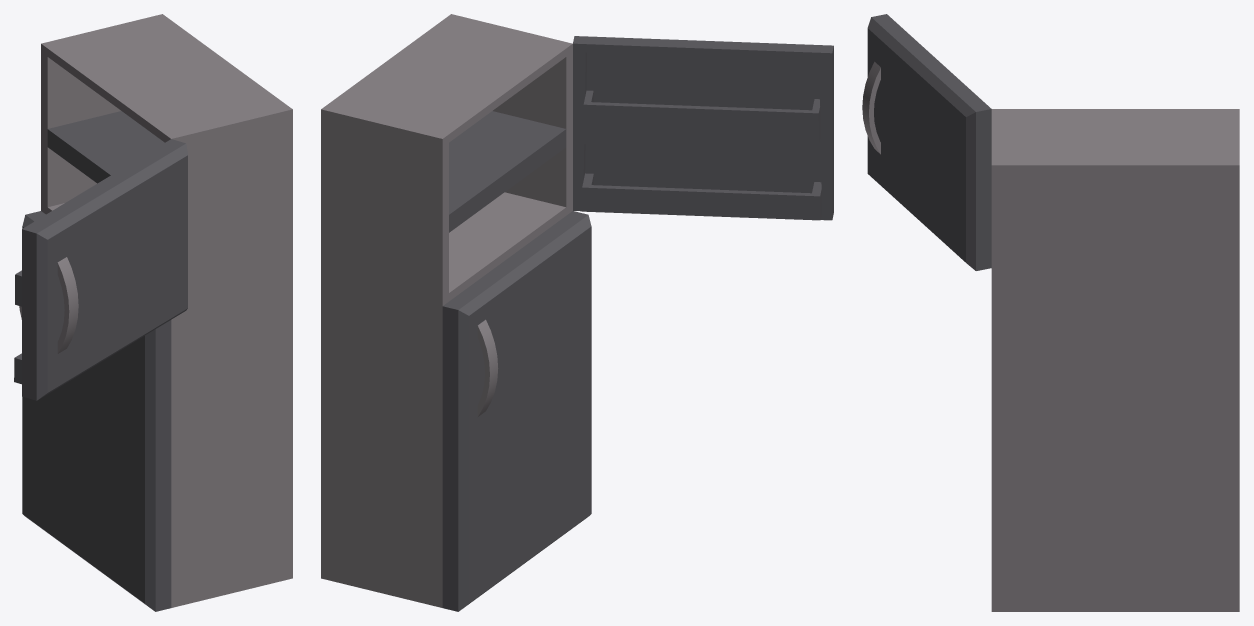
The model's file is freezer_open.fbx.
3 renders of one model, left to right at view 1: azimuth 30°, elevation 25°; view 2: azimuth 150°, elevation 25°; view 3: azimuth 270°, elevation 25°, orthographic. The views are drawn at different scales.
Parts seen in each view (by area): view 1: Body, Fridge_Door, Freezer_Door, Freezer_Handle; view 2: Body, Fridge_Door, Freezer_Door, Fridge_Handle; view 3: Body, Freezer_Door, Freezer_Handle.
Boxes of the visible parts, x1,y1,x2,y2 form: Body: [41, 14, 292, 607]; Fridge_Door: [22, 211, 171, 611]; Freezer_Door: [14, 139, 187, 400]; Freezer_Handle: [57, 257, 78, 353]; Body: [321, 14, 572, 607]; Fridge_Door: [442, 211, 591, 611]; Freezer_Door: [573, 36, 833, 220]; Fridge_Handle: [477, 319, 498, 416]; Body: [991, 109, 1239, 611]; Freezer_Door: [867, 14, 991, 270]; Freezer_Handle: [862, 61, 880, 154].
Bounding box in the file's own units: 0.0313 × 0.0431 × 0.033.
1 material, 1 textured.
